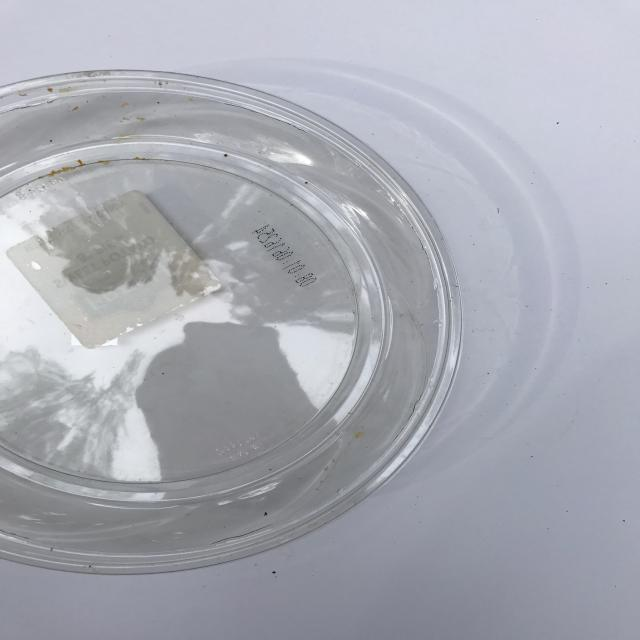plastic: (1, 64, 469, 577)
